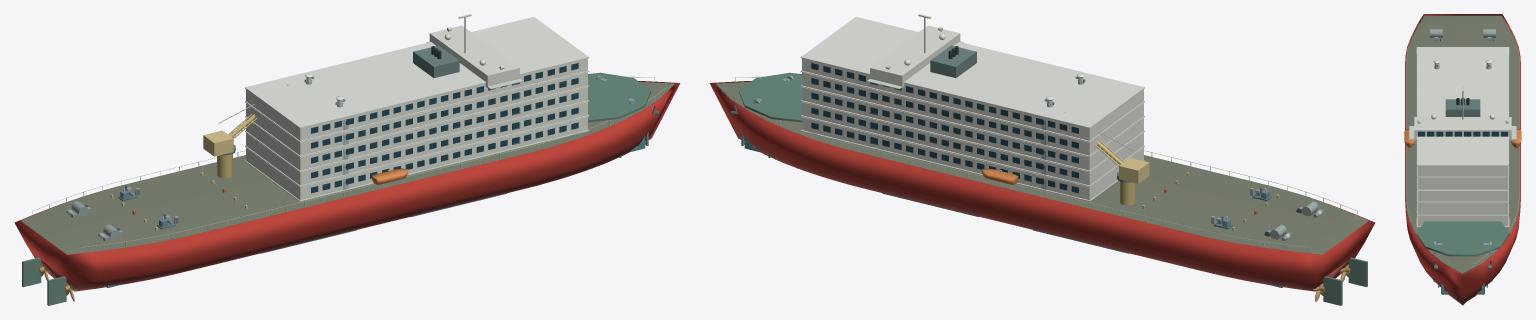
The model's file is sir-david-attenborough.lod0.glb.
The picture shows the model from 3 angles, left to right: view 1: azimuth 30°, elevation 25°; view 2: azimuth 150°, elevation 25°; view 3: azimuth 270°, elevation 25°; orthographic projection. The views are drawn at different scales.
Visible parts, largest first — view 1: sir-david-attenborough.structure.hull.outer-hull-shell.1, sir-david-attenborough.structure.decks.main-strength-deck.1, sir-david-attenborough.accommodation.superstructure.superstr, sir-david-attenborough.accommodation.superstructure.deck-2-e, sir-david-attenborough.accommodation.superstructure.deck-3-e, sir-david-attenborough.accommodation.superstructure.deck-4-e, sir-david-attenborough.structure.hull.antifouling-underwater, sir-david-attenborough.accommodation.superstructure.deck-1-e, sir-david-attenborough.accommodation.superstructure.deck-5-e, sir-david-attenborough.navigation.bridge.wheelhouse.1, sir-david-attenborough.cargo.aviation.helicopter-landing-dec, sir-david-attenborough.propulsion.exhaust.exhaust-casing.1 (+8 smaller); view 2: sir-david-attenborough.structure.hull.outer-hull-shell.1, sir-david-attenborough.structure.decks.main-strength-deck.1, sir-david-attenborough.accommodation.superstructure.superstr, sir-david-attenborough.accommodation.superstructure.deck-4-e, sir-david-attenborough.accommodation.superstructure.deck-2-e, sir-david-attenborough.accommodation.superstructure.deck-3-e, sir-david-attenborough.structure.hull.antifouling-underwater, sir-david-attenborough.accommodation.superstructure.deck-1-e, sir-david-attenborough.accommodation.superstructure.deck-5-e, sir-david-attenborough.navigation.bridge.wheelhouse.1, sir-david-attenborough.cargo.aviation.helicopter-landing-dec, sir-david-attenborough.propulsion.exhaust.exhaust-casing.1 (+8 smaller); view 3: sir-david-attenborough.accommodation.superstructure.superstr, sir-david-attenborough.structure.decks.main-strength-deck.1, sir-david-attenborough.structure.hull.outer-hull-shell.1, sir-david-attenborough.cargo.aviation.helicopter-landing-dec, sir-david-attenborough.navigation.bridge.wheelhouse.1, sir-david-attenborough.accommodation.superstructure.deck-3-e, sir-david-attenborough.accommodation.superstructure.deck-2-e, sir-david-attenborough.accommodation.superstructure.deck-4-e, sir-david-attenborough.accommodation.superstructure.deck-5-e, sir-david-attenborough.accommodation.superstructure.deck-1-e, sir-david-attenborough.propulsion.exhaust.exhaust-casing.1, sir-david-attenborough.structure.hull.antifouling-underwater (+8 smaller).
Boxes of the visible parts, bbox=[...] form: sir-david-attenborough.structure.hull.outer-hull-shell.1: bbox=[14, 81, 680, 283]; sir-david-attenborough.structure.decks.main-strength-deck.1: bbox=[21, 81, 673, 254]; sir-david-attenborough.accommodation.superstructure.superstr: bbox=[245, 17, 589, 128]; sir-david-attenborough.accommodation.superstructure.deck-2-e: bbox=[246, 102, 587, 185]; sir-david-attenborough.accommodation.superstructure.deck-3-e: bbox=[246, 87, 587, 170]; sir-david-attenborough.accommodation.superstructure.deck-4-e: bbox=[246, 72, 587, 155]; sir-david-attenborough.structure.hull.antifouling-underwater: bbox=[32, 121, 660, 291]; sir-david-attenborough.accommodation.superstructure.deck-1-e: bbox=[246, 117, 587, 200]; sir-david-attenborough.accommodation.superstructure.deck-5-e: bbox=[246, 58, 587, 140]; sir-david-attenborough.navigation.bridge.wheelhouse.1: bbox=[429, 25, 519, 87]; sir-david-attenborough.cargo.aviation.helicopter-landing-dec: bbox=[588, 72, 650, 122]; sir-david-attenborough.propulsion.exhaust.exhaust-casing.1: bbox=[413, 45, 459, 77]; sir-david-attenborough.structure.hull.outer-hull-shell.1: bbox=[709, 81, 1375, 283]; sir-david-attenborough.structure.decks.main-strength-deck.1: bbox=[716, 81, 1368, 254]; sir-david-attenborough.accommodation.superstructure.superstr: bbox=[800, 17, 1144, 128]; sir-david-attenborough.accommodation.superstructure.deck-4-e: bbox=[802, 72, 1143, 155]; sir-david-attenborough.accommodation.superstructure.deck-2-e: bbox=[802, 102, 1143, 185]; sir-david-attenborough.accommodation.superstructure.deck-3-e: bbox=[802, 87, 1143, 170]; sir-david-attenborough.structure.hull.antifouling-underwater: bbox=[729, 121, 1357, 291]; sir-david-attenborough.accommodation.superstructure.deck-1-e: bbox=[802, 117, 1143, 200]; sir-david-attenborough.accommodation.superstructure.deck-5-e: bbox=[802, 58, 1143, 140]; sir-david-attenborough.navigation.bridge.wheelhouse.1: bbox=[870, 25, 960, 87]; sir-david-attenborough.cargo.aviation.helicopter-landing-dec: bbox=[739, 72, 801, 122]; sir-david-attenborough.propulsion.exhaust.exhaust-casing.1: bbox=[930, 45, 976, 77]; sir-david-attenborough.accommodation.superstructure.superstr: bbox=[1416, 47, 1509, 165]; sir-david-attenborough.structure.decks.main-strength-deck.1: bbox=[1406, 15, 1519, 273]; sir-david-attenborough.structure.hull.outer-hull-shell.1: bbox=[1405, 14, 1520, 295]; sir-david-attenborough.cargo.aviation.helicopter-landing-dec: bbox=[1416, 221, 1509, 256]; sir-david-attenborough.navigation.bridge.wheelhouse.1: bbox=[1414, 117, 1511, 140]; sir-david-attenborough.accommodation.superstructure.deck-3-e: bbox=[1417, 190, 1508, 201]; sir-david-attenborough.accommodation.superstructure.deck-2-e: bbox=[1417, 202, 1508, 213]; sir-david-attenborough.accommodation.superstructure.deck-4-e: bbox=[1417, 177, 1508, 188]; sir-david-attenborough.accommodation.superstructure.deck-5-e: bbox=[1417, 166, 1508, 176]; sir-david-attenborough.accommodation.superstructure.deck-1-e: bbox=[1417, 215, 1508, 226]; sir-david-attenborough.propulsion.exhaust.exhaust-casing.1: bbox=[1445, 99, 1480, 116]; sir-david-attenborough.structure.hull.antifouling-underwater: bbox=[1419, 259, 1506, 305].
Bounding box in the file's own units: 129 × 33.62 × 24.28.
